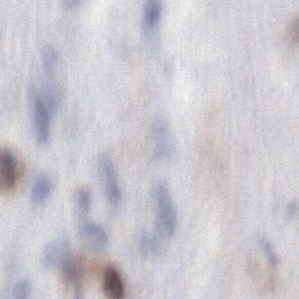Lymphocyte: (102, 265, 125, 299)
